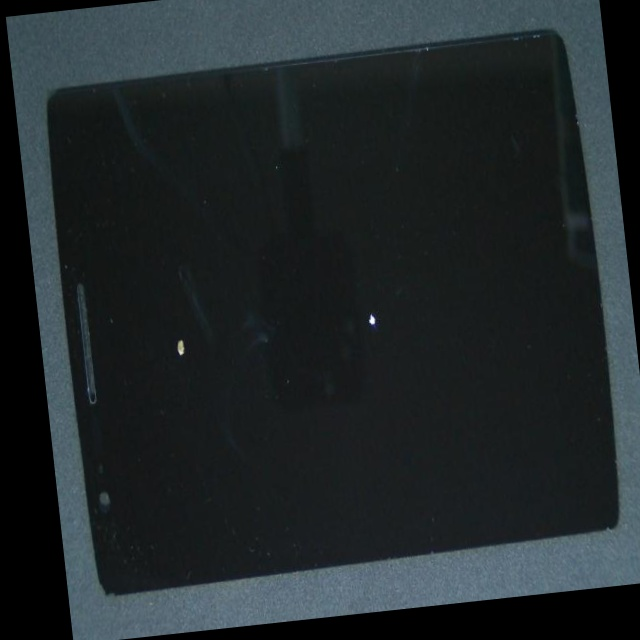stain: (194, 85, 547, 479), (56, 149, 258, 550)
